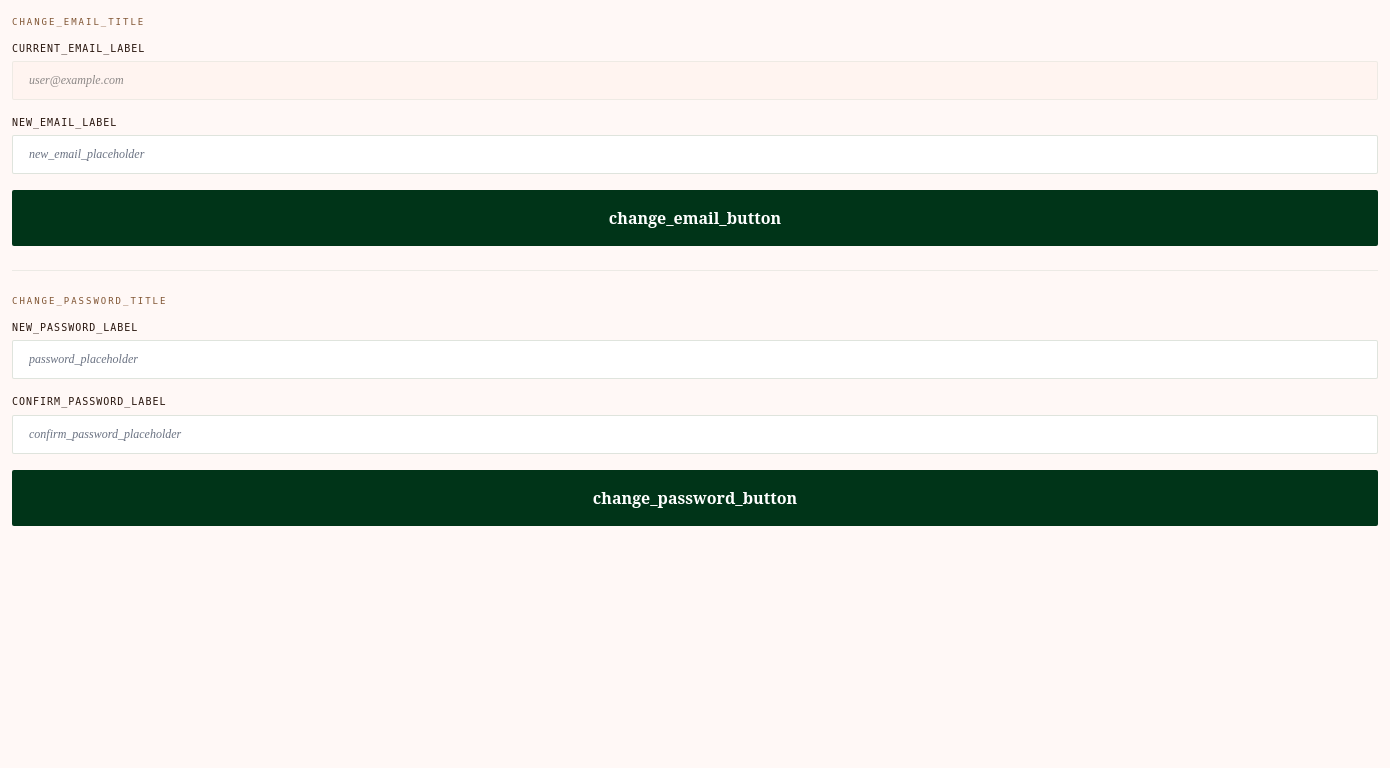
SeguridadForm › muestra error si las contraseñas no coinciden
The width and height of the screenshot is (1390, 768).
Type "Password123!" into the password field with placeholder "password_placeholder" at (695, 360), box [12,340,1378,379]
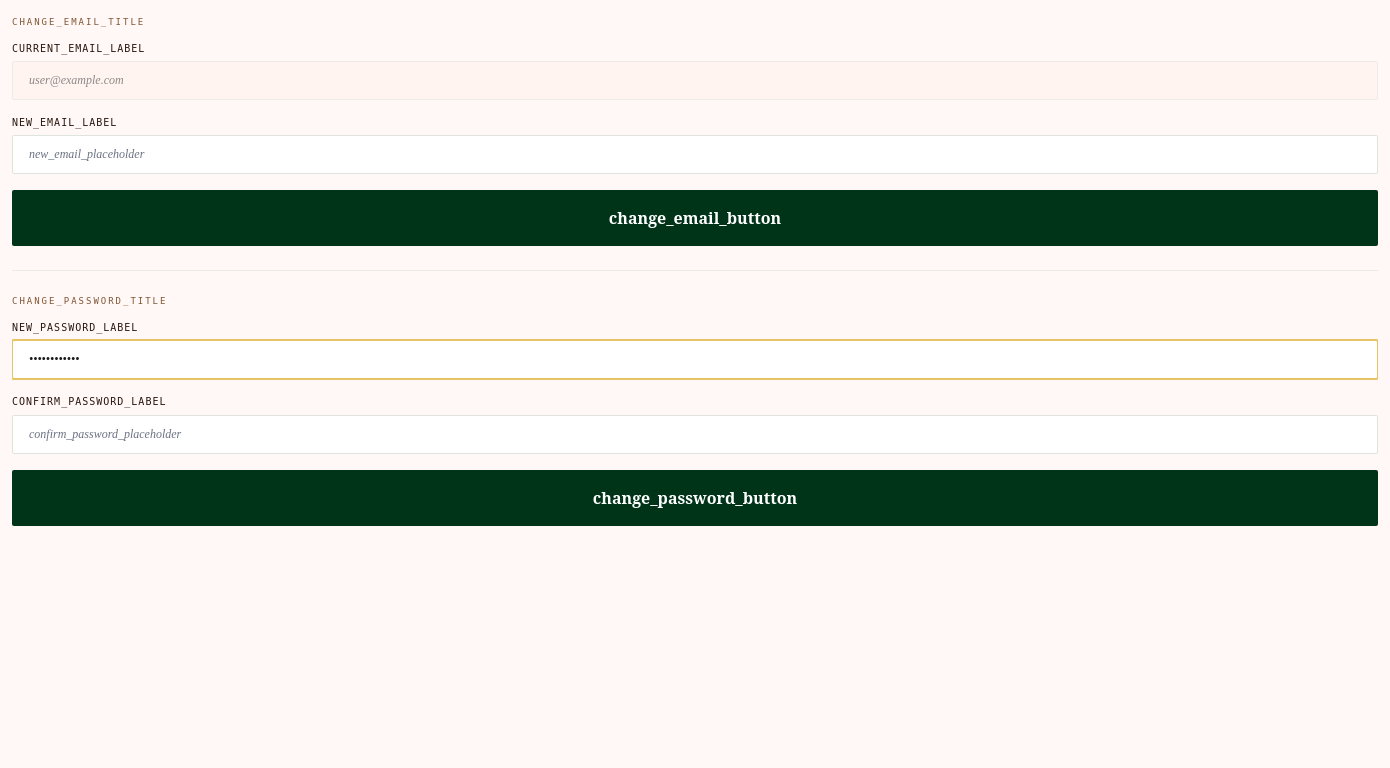
Type "DifferentPass!" into the password field with placeholder "confirm_password_placeholder" at (695, 434), box [12,415,1378,454]
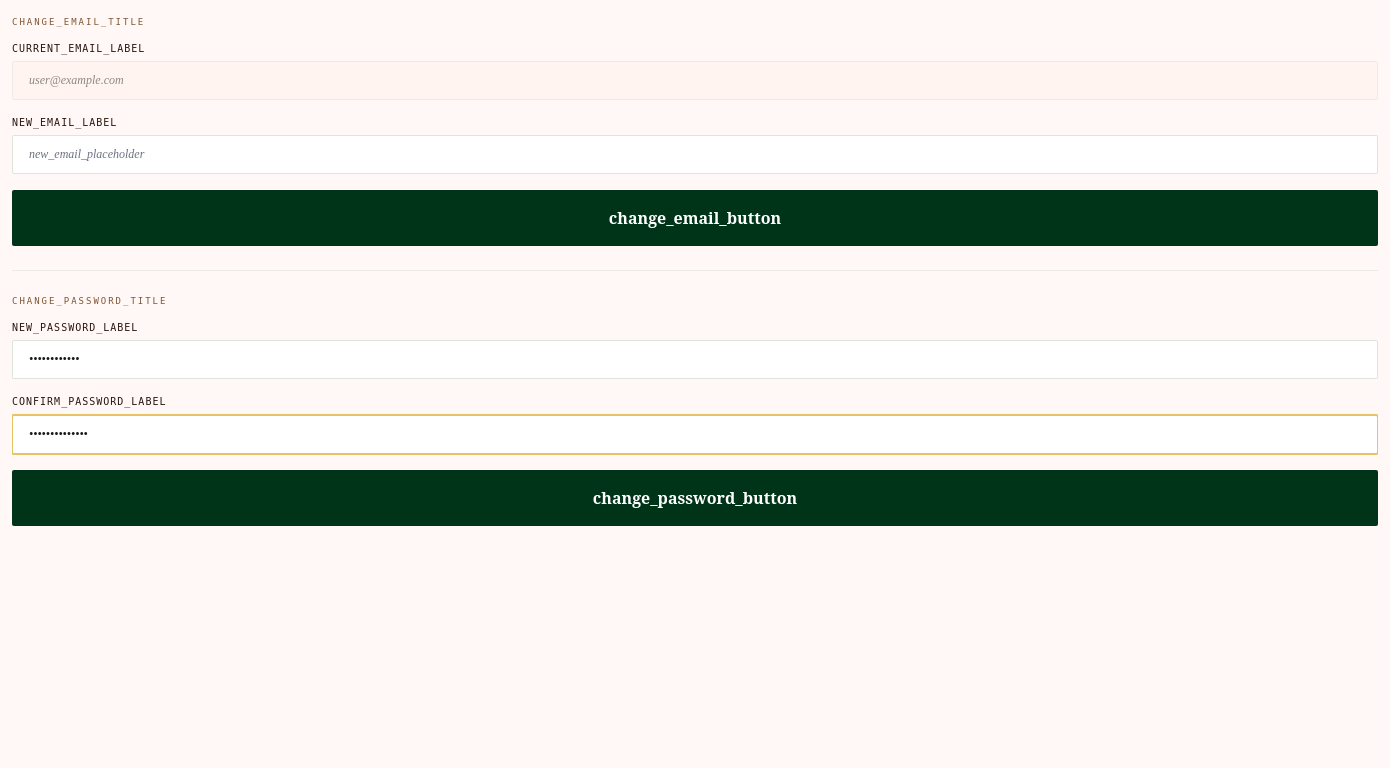
Click the button "change_password_button" at (695, 498), box [12,470,1378,526]
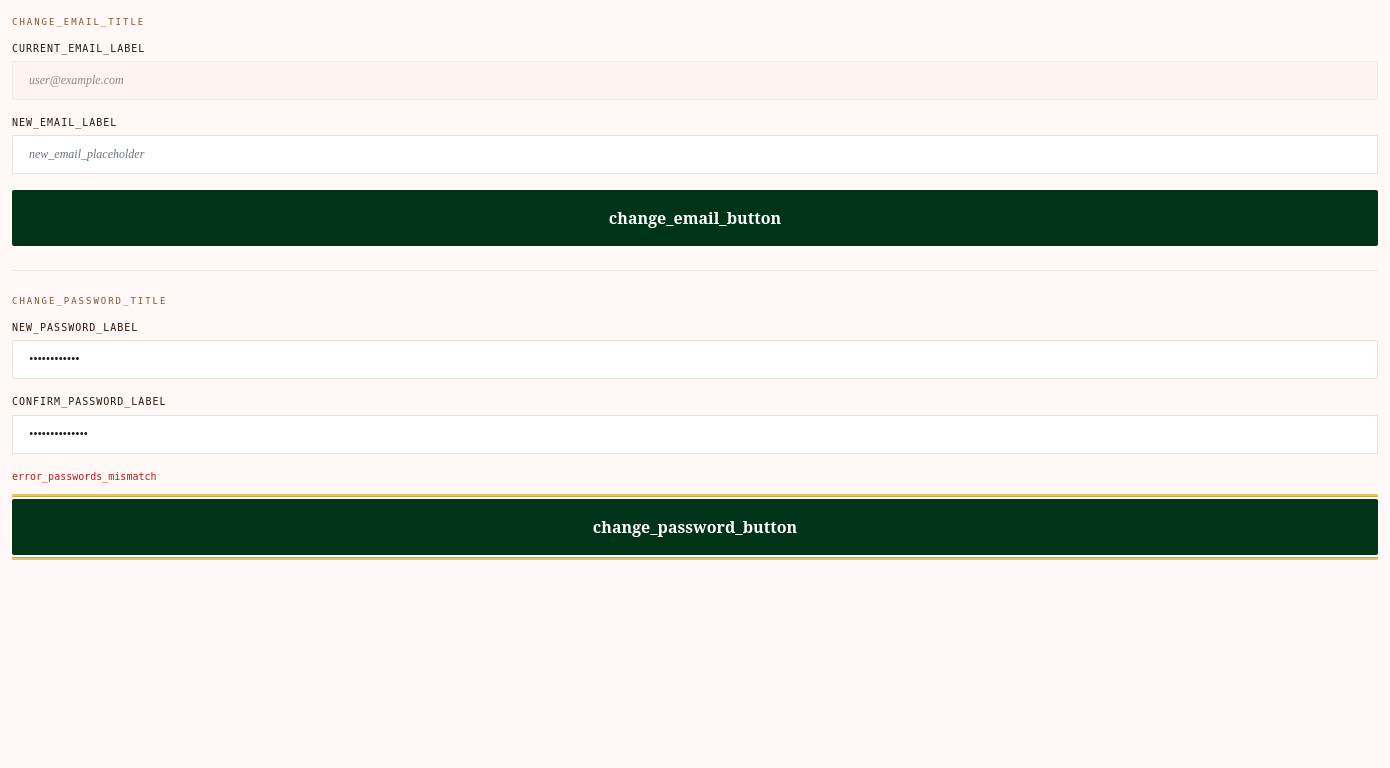
Check: the text "error_passwords_mismatch" is shown, box [12,471,156,482]
